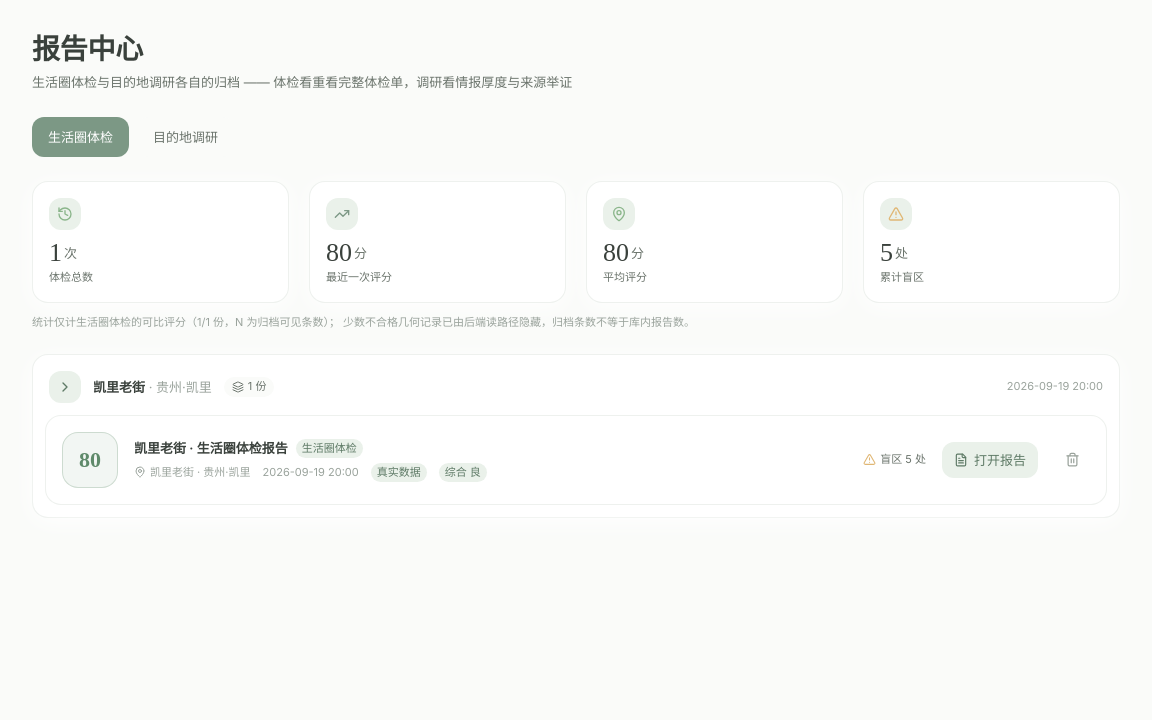
Test: 真实态：后端那句 deleted:false 第一次有消费方 › deleted:false ⇒ 说"本来就不在归档里"，确认框不关、也不假装重取
Check: the button "凯里老街 · 生活圈体检报告" is shown, box [134,438,288,459]
Click the button named "删除生活圈体检" at [1072, 460], box [1054,442,1090,478]
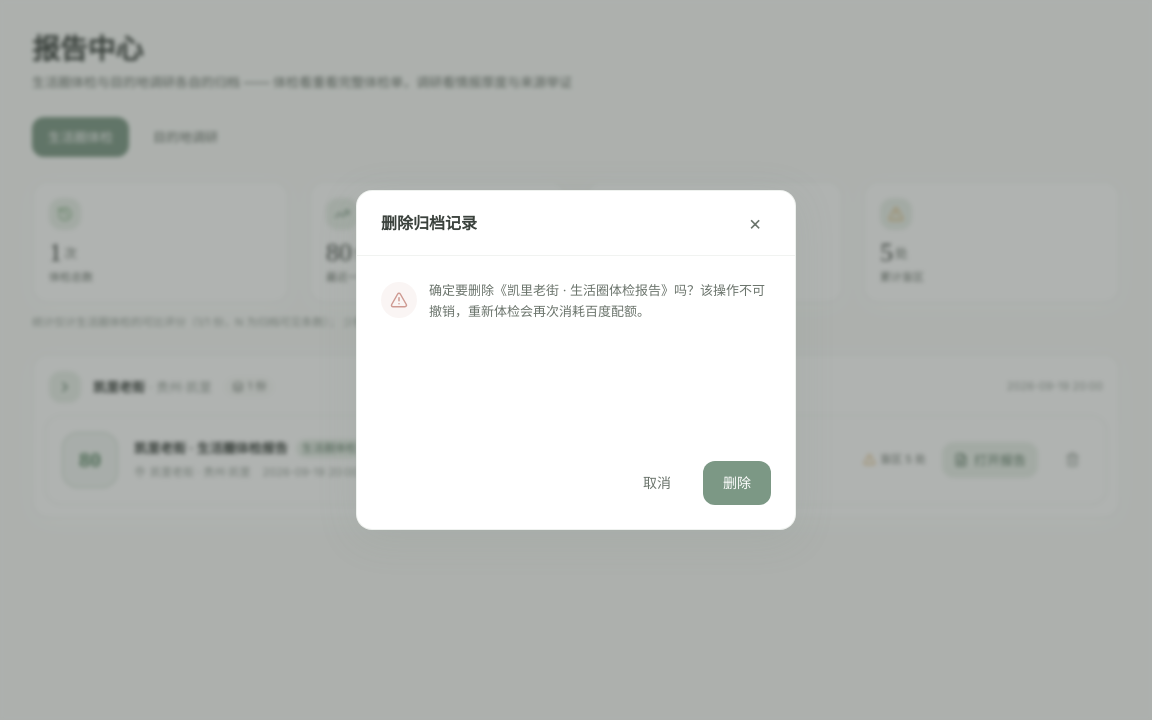
Check: the dialog is shown
Click the button "删除" at [737, 483], box [703,461,771,505]
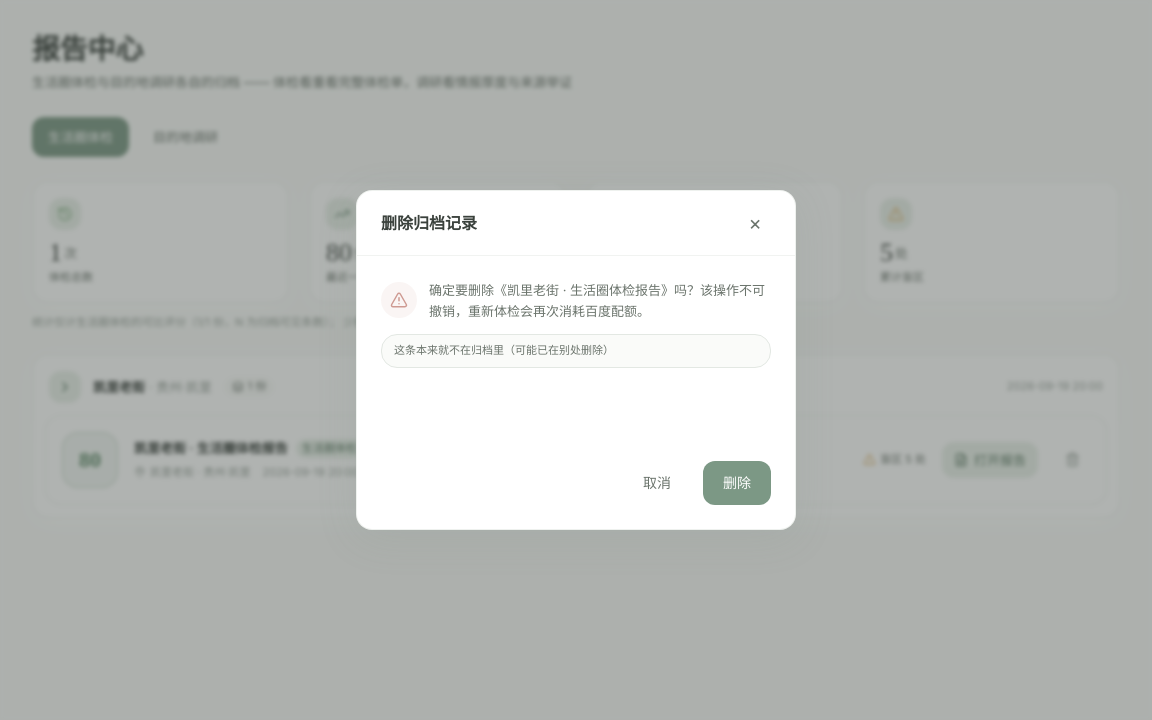
Check: the dialog is shown
Check: the text "这条本来就不在归档里（可能已在别处删除）" is shown, box [394,343,614,359]
